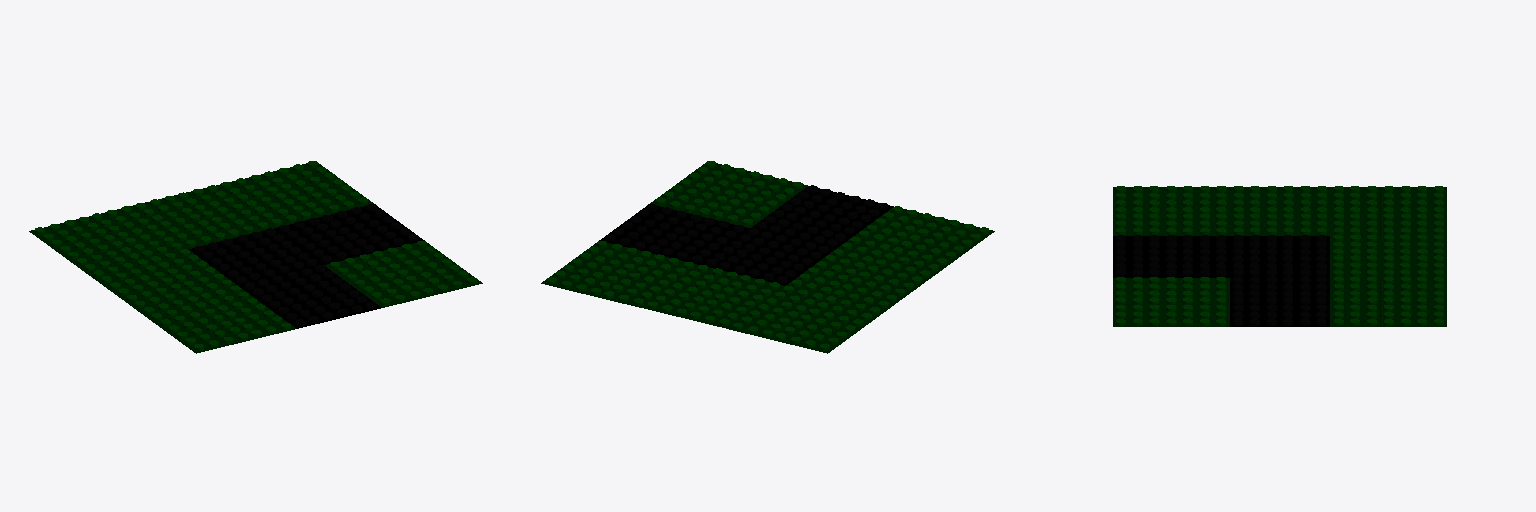
Rendered from rua_curva_terreno.obj.
3 views of the same model, side by side, from view 1: azimuth 30°, elevation 25°; view 2: azimuth 150°, elevation 25°; view 3: azimuth 270°, elevation 25° (orthographic).
Visible parts, largest first — view 1: Cylinder.008, Cylinder.007_Cylinder.011, Cylinder.006_Cylinder.010, Cylinder.001, Cylinder.004_Cylinder.020, Cylinder.000, Cylinder.003, Cylinder.002; view 2: Cylinder.008, Cylinder.007_Cylinder.011, Cylinder.001, Cylinder.006_Cylinder.010, Cylinder.004_Cylinder.020, Cylinder.000, Cylinder.003, Cylinder.002; view 3: Cylinder.008, Cylinder.007_Cylinder.011, Cylinder.001, Cylinder.006_Cylinder.010, Cylinder.004_Cylinder.020, Cylinder.000, Cylinder.003, Cylinder.002.
Part boxes in pixels (bbox=[...]): Cylinder.008: bbox=[29, 161, 482, 307]; Cylinder.007_Cylinder.011: bbox=[88, 249, 245, 316]; Cylinder.006_Cylinder.010: bbox=[138, 288, 295, 353]; Cylinder.001: bbox=[195, 228, 375, 325]; Cylinder.004_Cylinder.020: bbox=[129, 185, 273, 248]; Cylinder.000: bbox=[188, 231, 381, 328]; Cylinder.003: bbox=[280, 204, 418, 262]; Cylinder.002: bbox=[274, 206, 424, 264]; Cylinder.008: bbox=[541, 161, 885, 353]; Cylinder.007_Cylinder.011: bbox=[786, 243, 943, 310]; Cylinder.001: bbox=[707, 185, 887, 282]; Cylinder.006_Cylinder.010: bbox=[845, 206, 994, 273]; Cylinder.004_Cylinder.020: bbox=[642, 265, 784, 328]; Cylinder.000: bbox=[701, 187, 893, 285]; Cylinder.003: bbox=[605, 204, 743, 262]; Cylinder.002: bbox=[599, 206, 749, 264]; Cylinder.008: bbox=[1113, 186, 1446, 326]; Cylinder.007_Cylinder.011: bbox=[1213, 186, 1329, 235]; Cylinder.001: bbox=[1116, 235, 1326, 276]; Cylinder.006_Cylinder.010: bbox=[1113, 186, 1220, 235]; Cylinder.004_Cylinder.020: bbox=[1330, 235, 1446, 277]; Cylinder.000: bbox=[1113, 236, 1329, 277]; Cylinder.003: bbox=[1233, 277, 1326, 325]; Cylinder.002: bbox=[1230, 278, 1329, 326].
Size of the model in its own units: 17.43 by 0.1927 by 17.58.